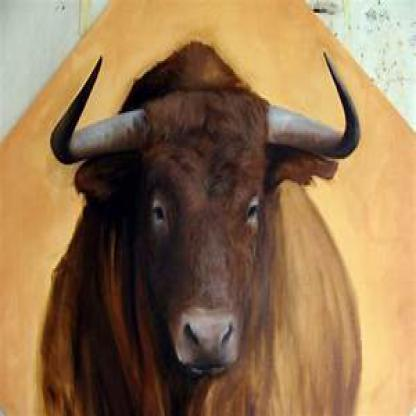cow: (40, 41, 364, 414)
